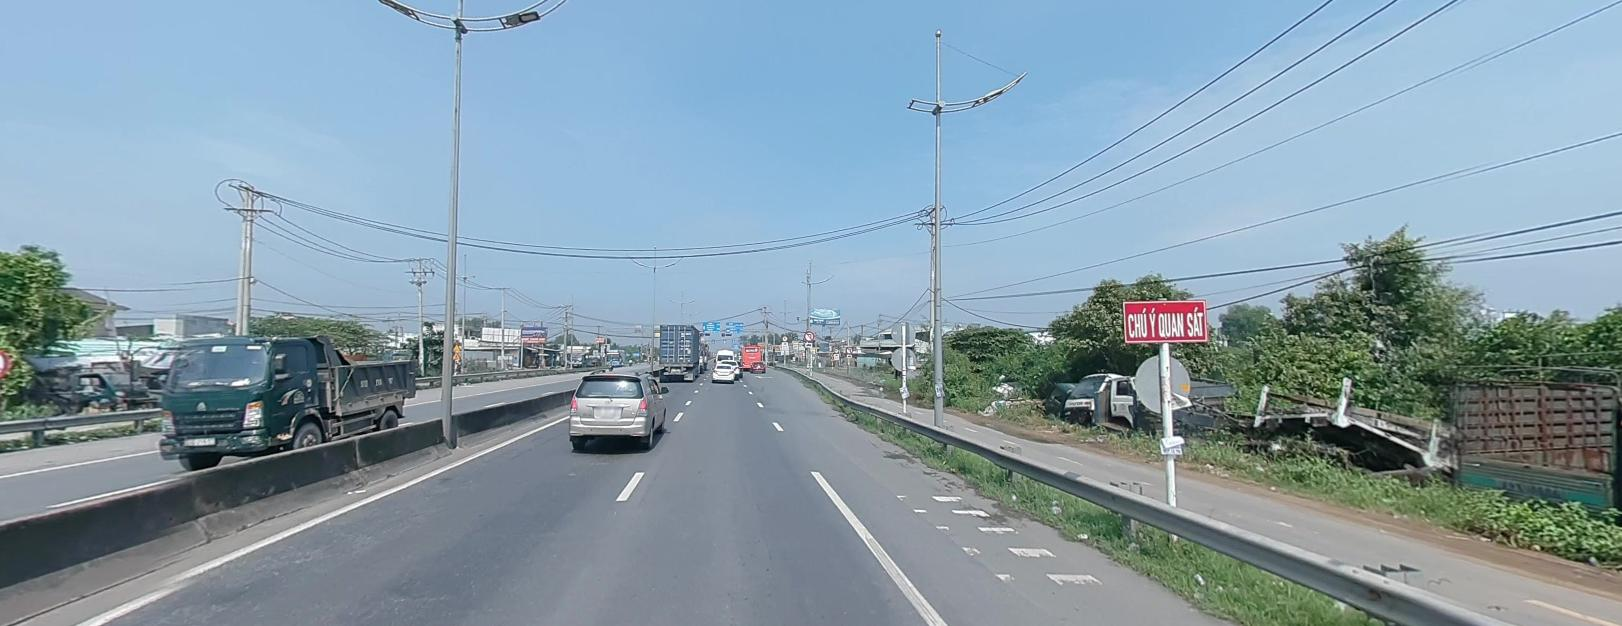Cam re: (803, 329, 814, 339), (846, 345, 852, 351), (781, 333, 787, 339)
Nguy hiem: (452, 341, 462, 349), (452, 351, 460, 358)
